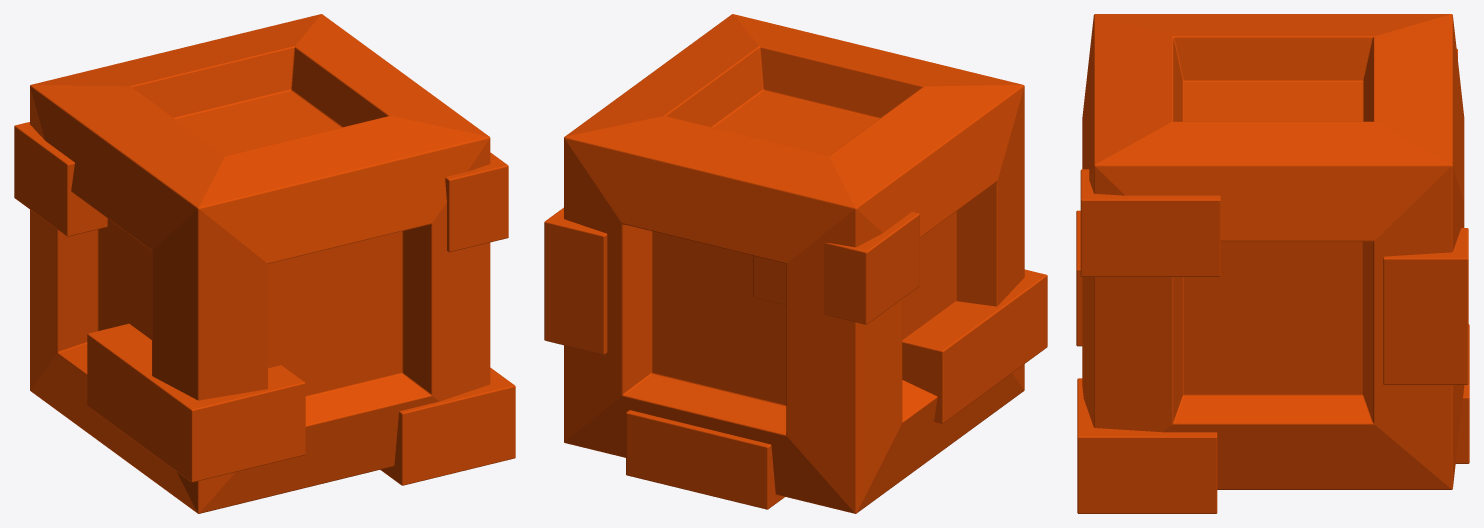
Rendered from CUBES_LVL2_INVERT.fbx.
3 renders of one model, left to right at view 1: azimuth 30°, elevation 25°; view 2: azimuth 150°, elevation 25°; view 3: azimuth 270°, elevation 25°, orthographic. The views are drawn at different scales.
Visible parts, largest first — view 1: Inversed_CubeLVL2; view 2: Inversed_CubeLVL2; view 3: Inversed_CubeLVL2.
Boxes of the visible parts, x1=… form: Inversed_CubeLVL2: x1=14, y1=14, x2=515, y2=513; Inversed_CubeLVL2: x1=544, y1=14, x2=1047, y2=513; Inversed_CubeLVL2: x1=1076, y1=14, x2=1469, y2=513.
Bounding box in the file's own units: 251 × 244 × 248.
